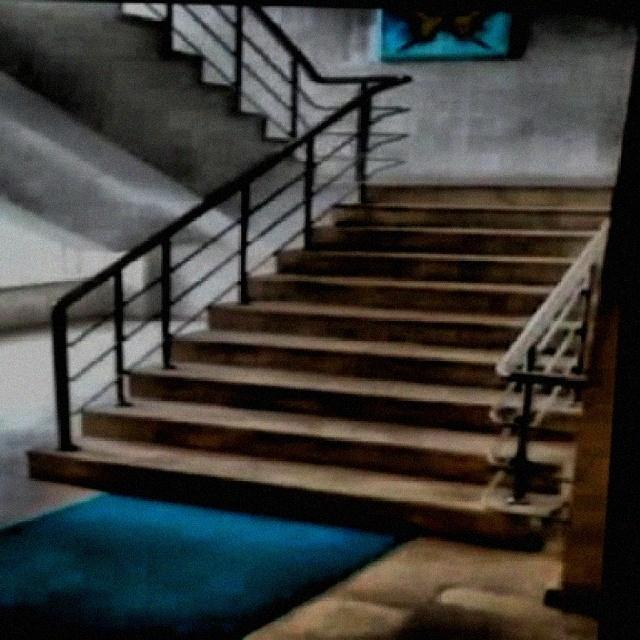stair: (36, 146, 630, 549)
